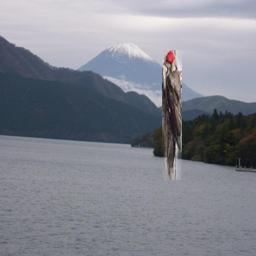Woodpecker: (162, 50, 182, 180)
